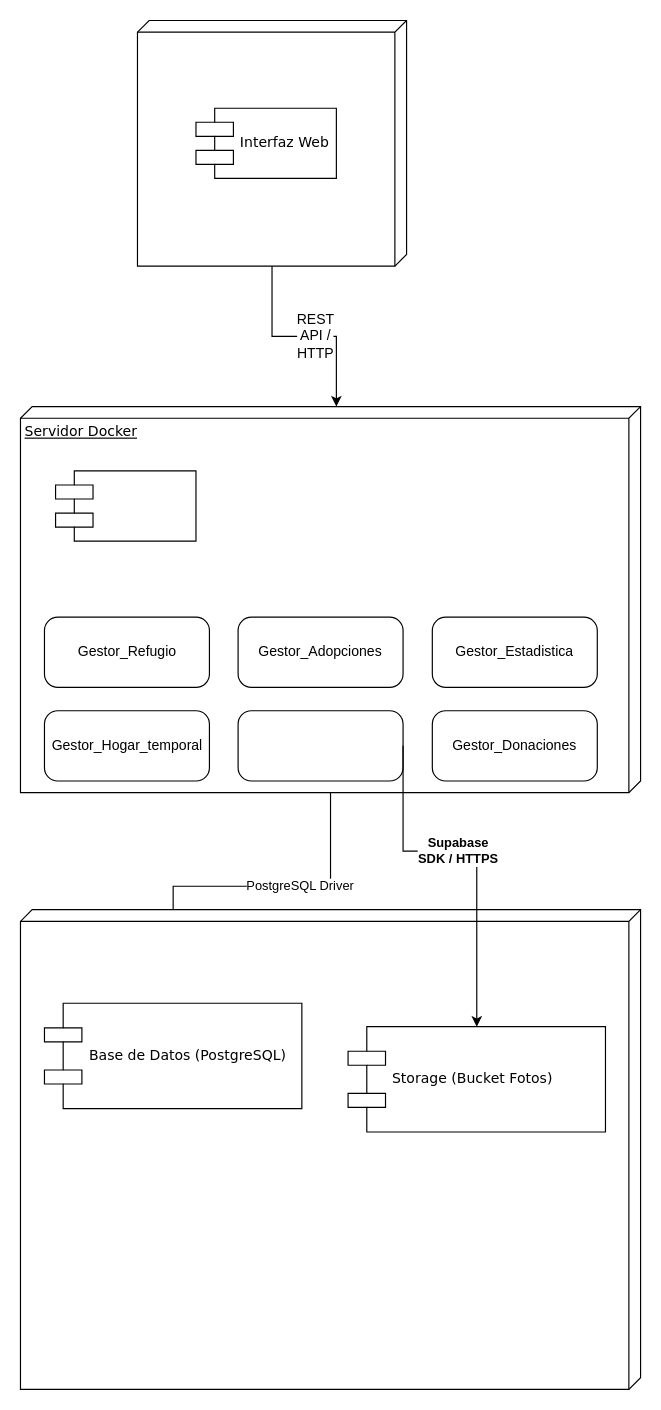
This 661x1410 diagram has some shape labels left out. The shapes that lost their labels are listed below. From the top down, each one's box as (x1, y1, x2, y2) in pixels, then its label:
(136, 19, 407, 266): Dispositivo del Usuario
(54, 470, 196, 541): API Backend
(237, 710, 403, 781): Gestor_Foro
(19, 909, 641, 1389): Supabase Cloud
